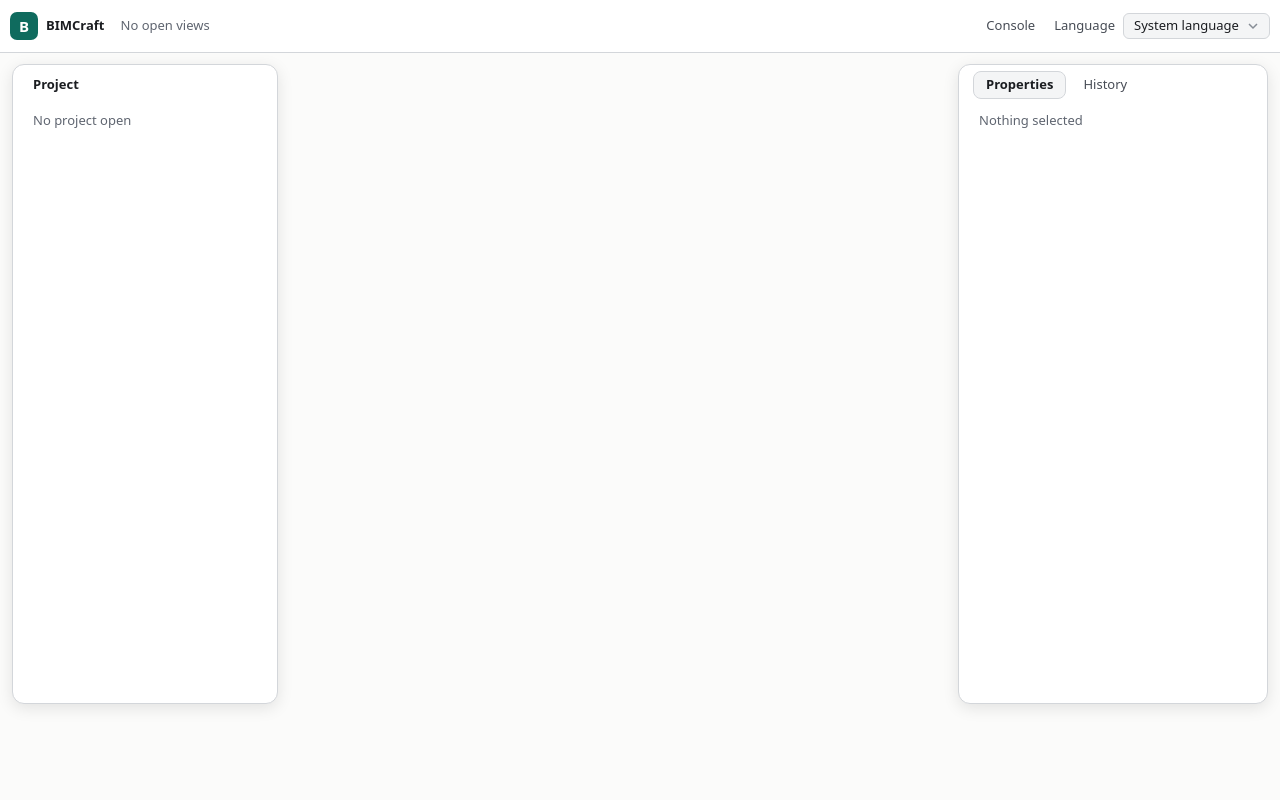
it: Shell › follows the interface language
This screenshot has width=1280, height=800.
Select "Français" in the dropdown labelled "Language" at (1196, 26), box [1123, 13, 1270, 39]
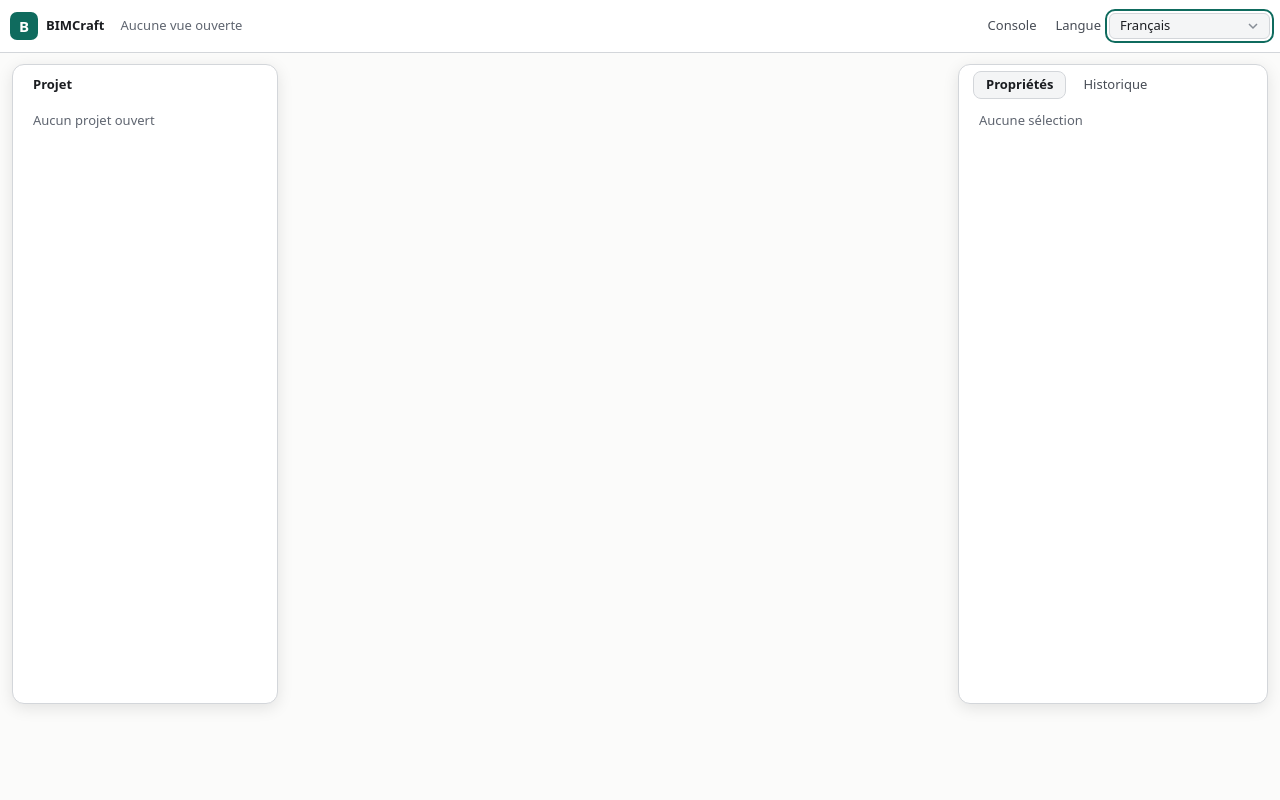
Now the element "Propriétés" is shown, box [958, 64, 1268, 704]
Now the element named "Vue" is shown
